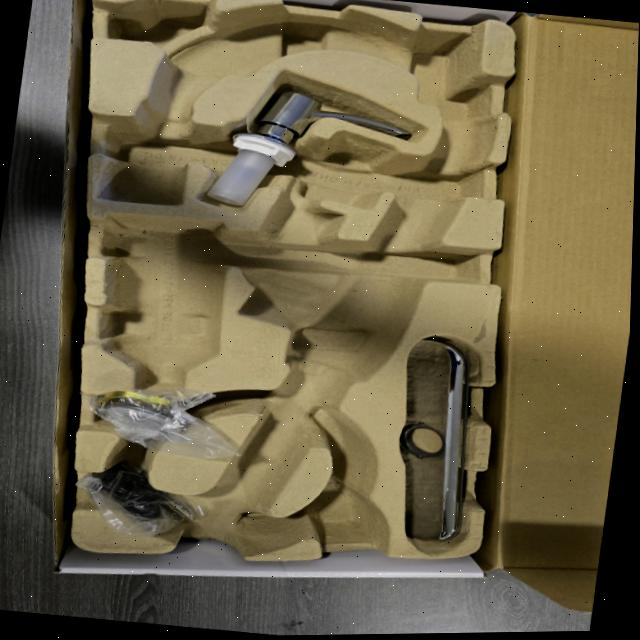1m: (98, 3, 491, 562)
2: (203, 85, 409, 207)
3m: (97, 218, 223, 396)
4: (398, 339, 466, 539)
5m: (305, 483, 374, 542)
6: (87, 388, 246, 463)
7: (71, 461, 205, 539)
